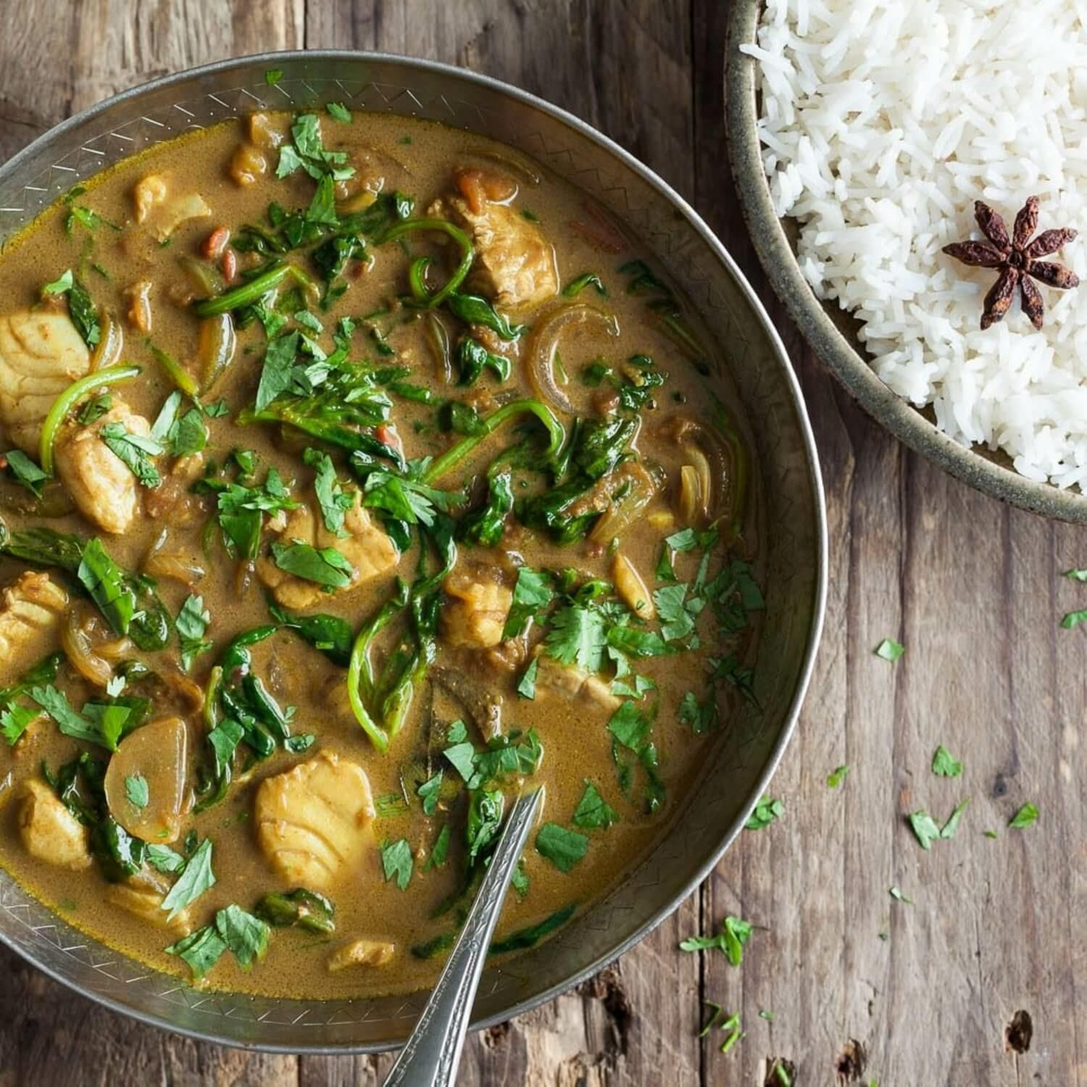FishCurry: (0, 108, 771, 1000)
WhiteRice: (737, 0, 1087, 492)
